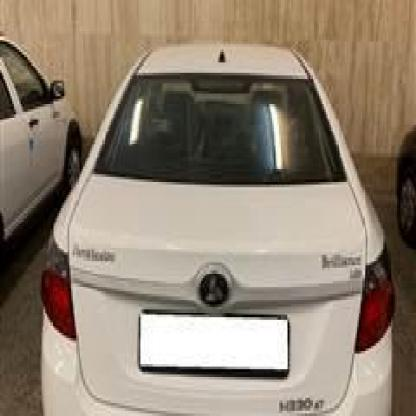Car: (40, 26, 392, 416), (0, 8, 71, 281)
